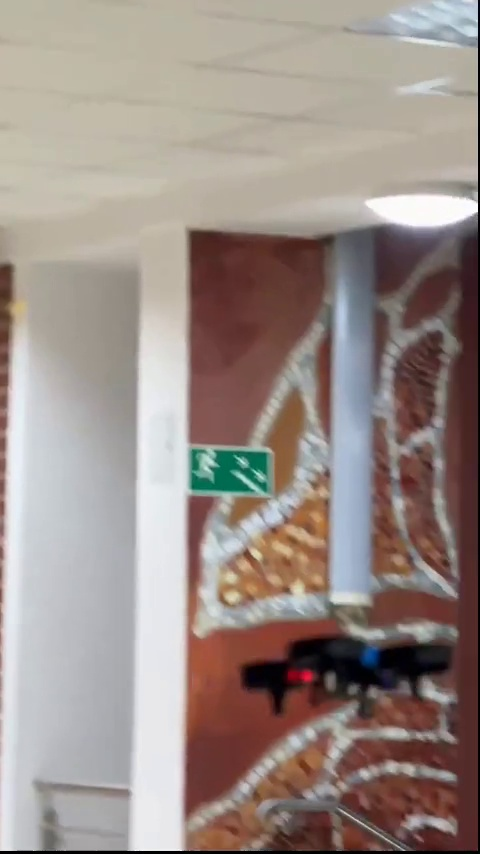drone: (234, 634, 452, 713)
